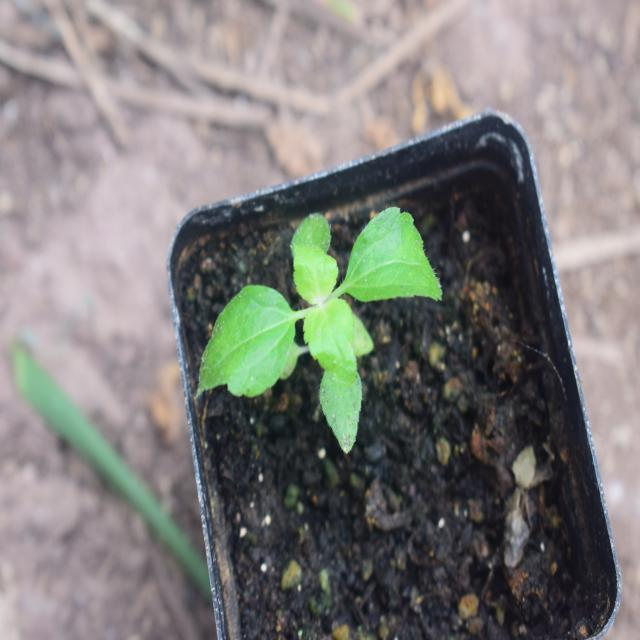billygoat_weed: (185, 183, 428, 461)
